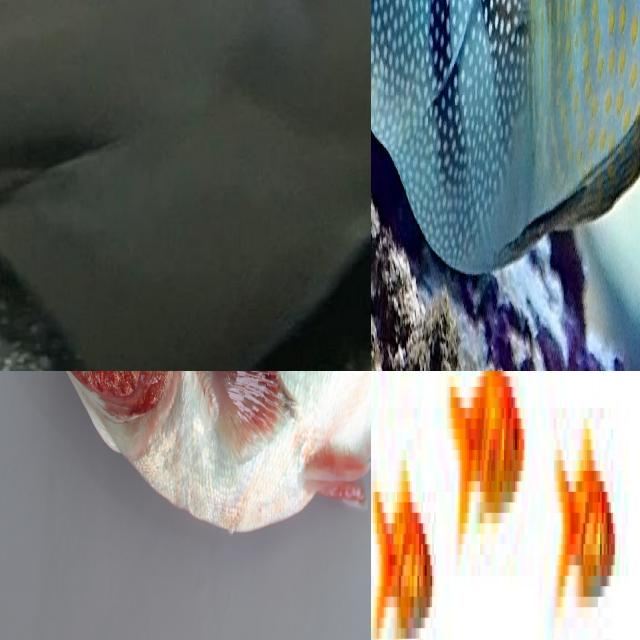fish: (0, 0, 371, 371), (398, 0, 640, 371), (0, 371, 371, 531), (550, 371, 640, 523)
